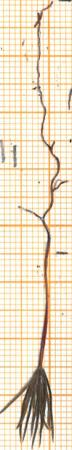flower: (0, 364, 72, 450)
root: (15, 0, 72, 252)
stem: (32, 251, 59, 364)
